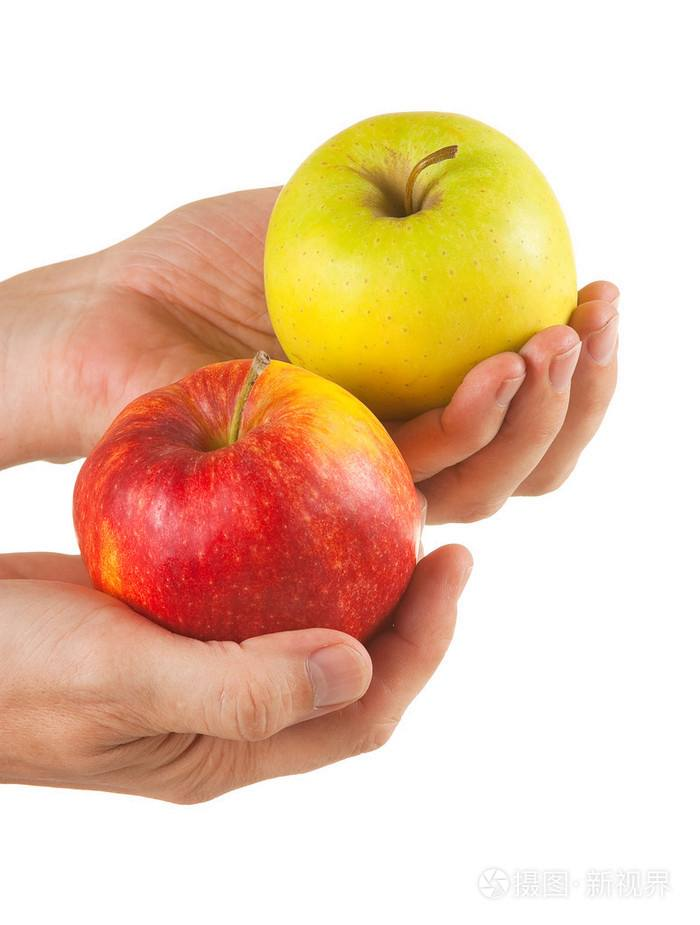no-phone: (21, 105, 626, 525), (7, 362, 476, 813)
